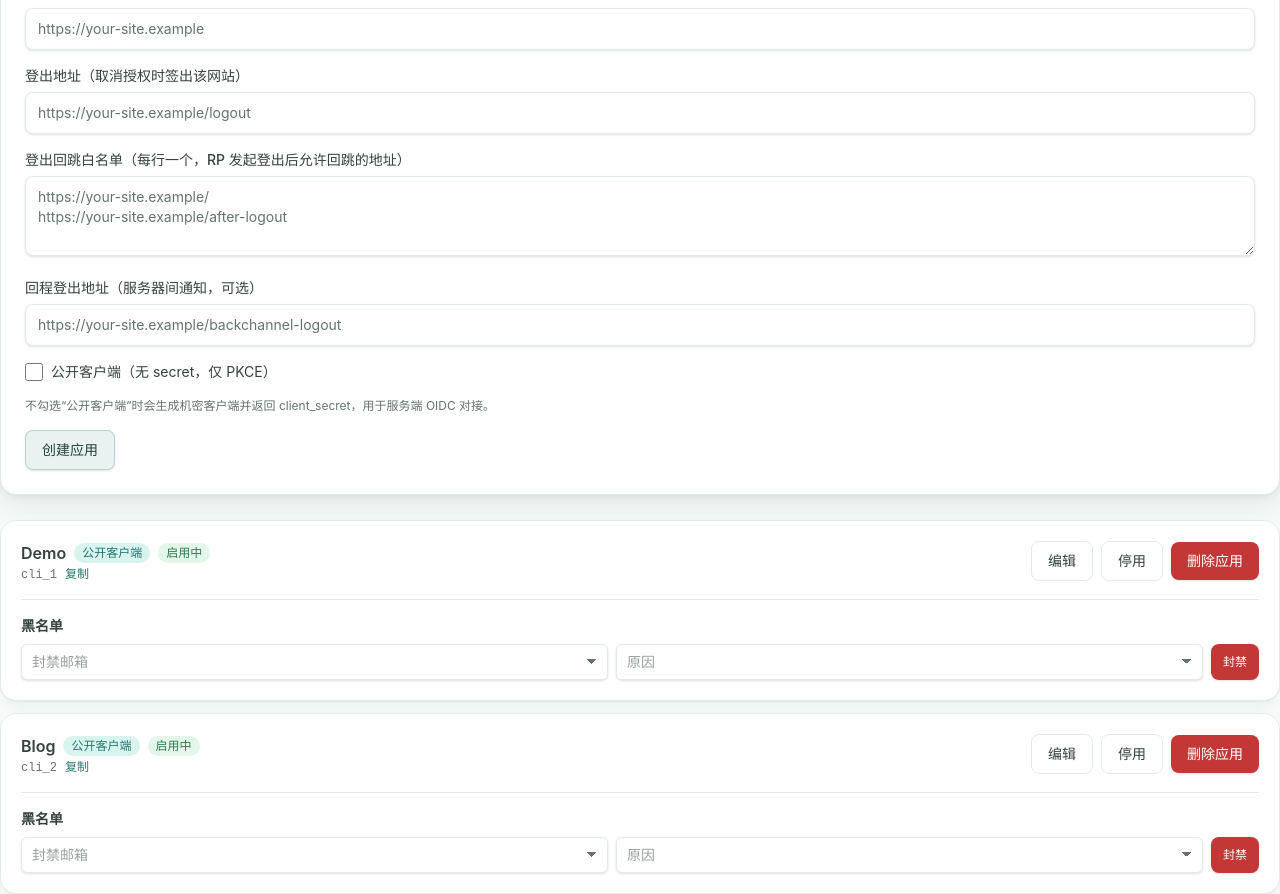
Test: AdminClientsPage › 停用某个应用时仅该行按钮显示处理中
(page scrolled)
Check: the text "Blog" is shown, box [21, 736, 56, 756]
Click the button "停用" in the row of "Demo" at (1132, 561), box [1101, 541, 1163, 581]
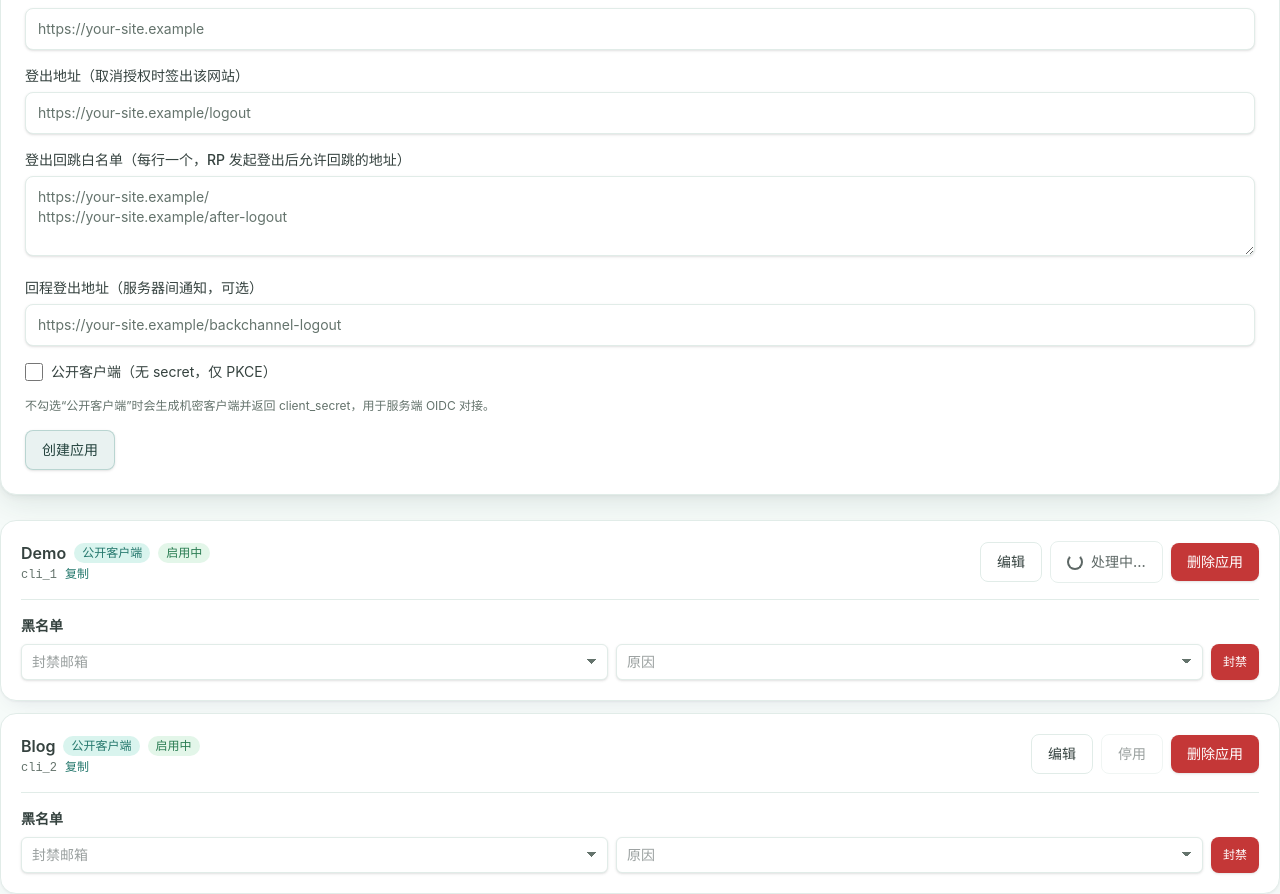
Check: the button "停用" is disabled, box [1101, 734, 1163, 774]
